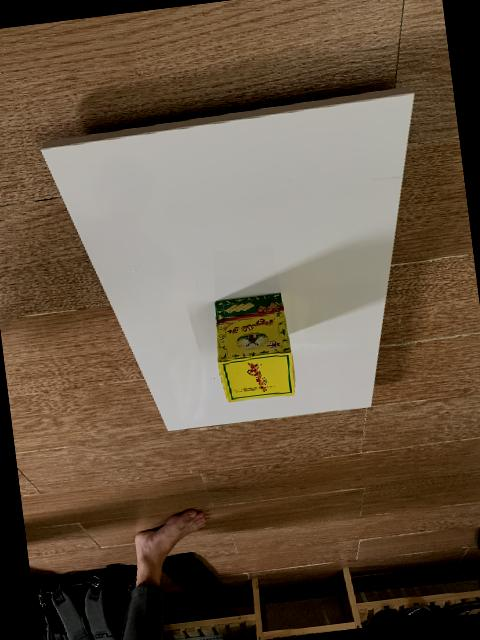luong_kho: (214, 291, 294, 401)
